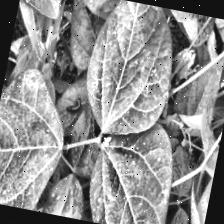Bean Rust: (79, 0, 179, 132), (77, 111, 184, 224), (0, 68, 75, 214), (43, 166, 92, 220)
